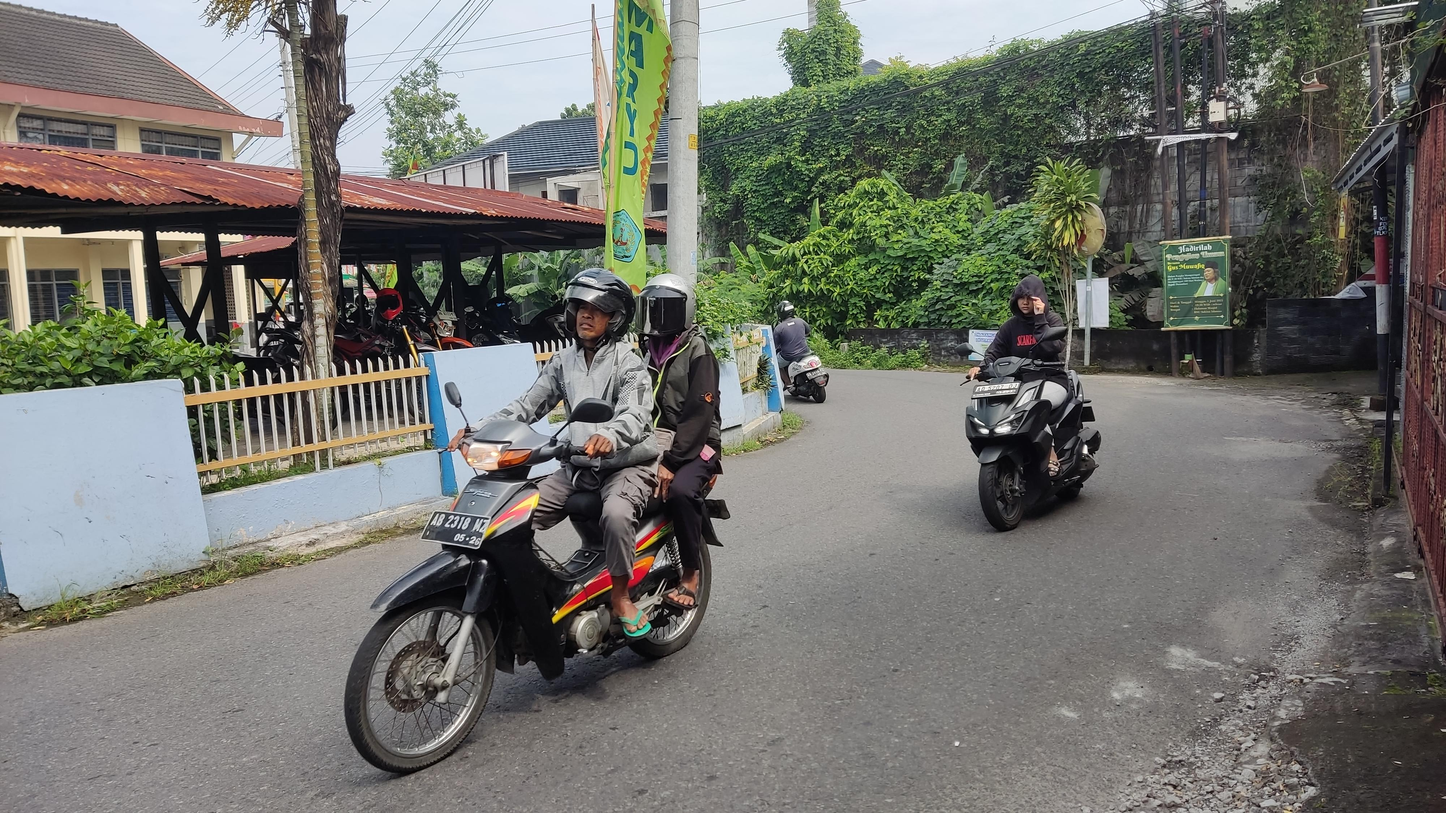helm: (558, 263, 640, 350), (639, 263, 699, 346)
nohelm: (1009, 272, 1048, 319)
riding: (330, 258, 752, 780), (959, 269, 1112, 540)
